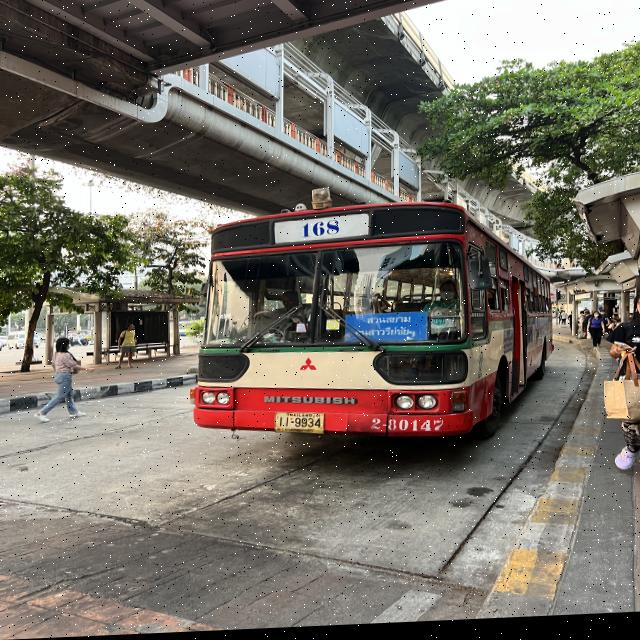BMTA-bus: (189, 206, 554, 445)
Bus Line Number: (291, 220, 344, 244)
Bus Side Number: (367, 416, 445, 440)
Destination Sign: (345, 316, 427, 348)
